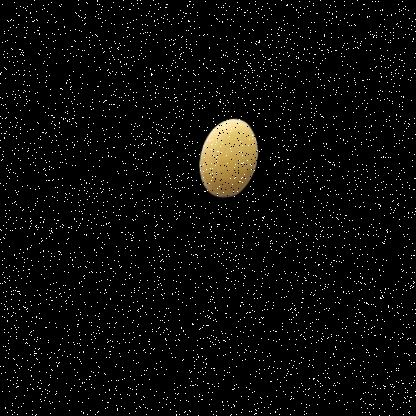rabeparzole20: (188, 103, 270, 223)
